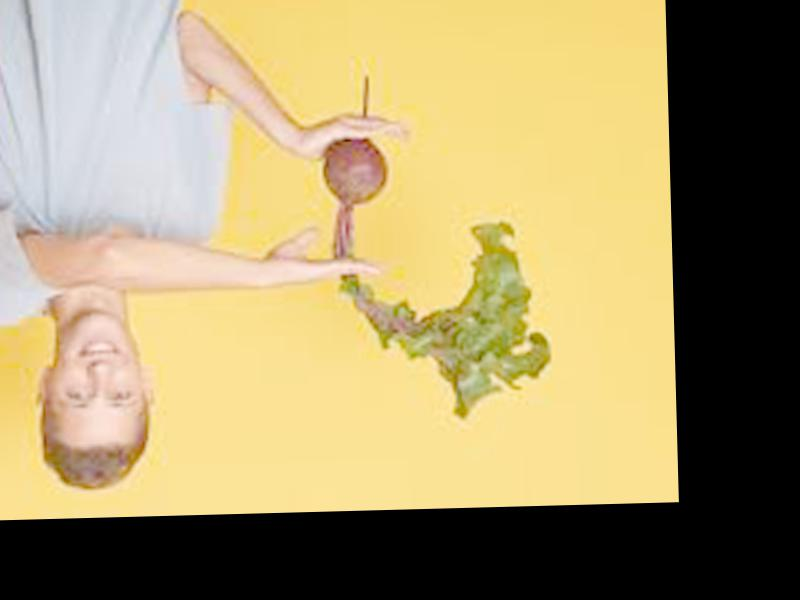Beet: (320, 72, 553, 422)
